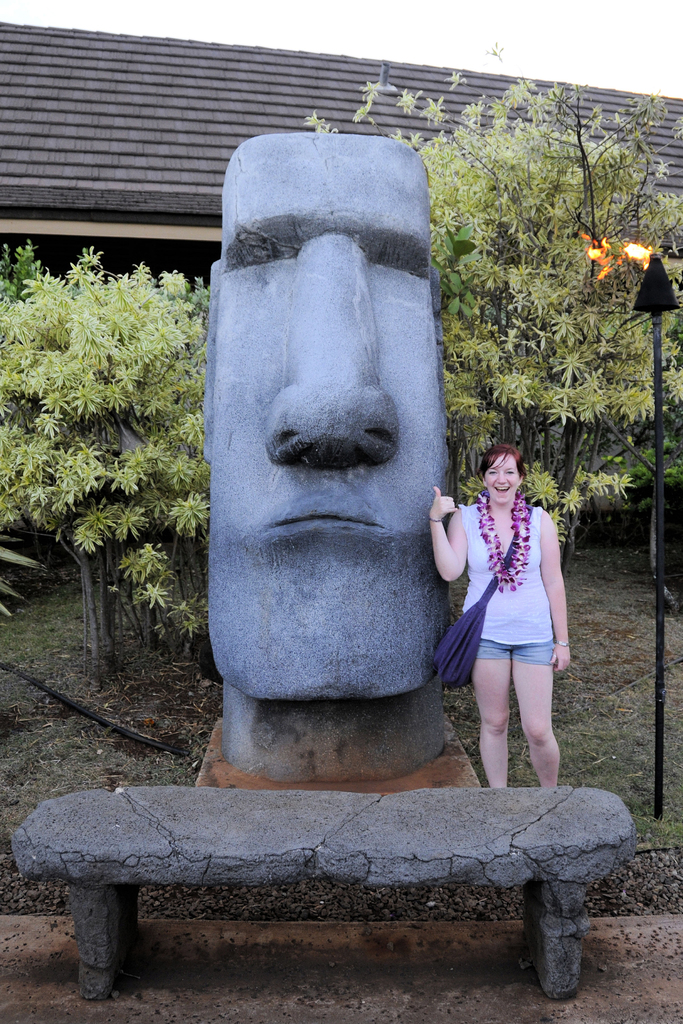Tree: (435, 171, 670, 596)
